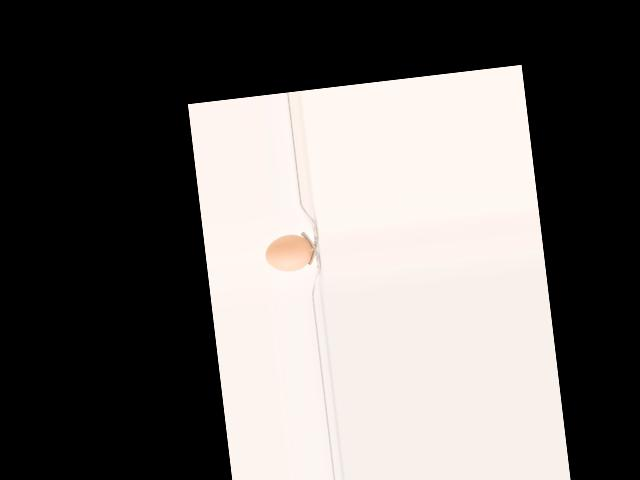egg: (263, 232, 314, 274)
